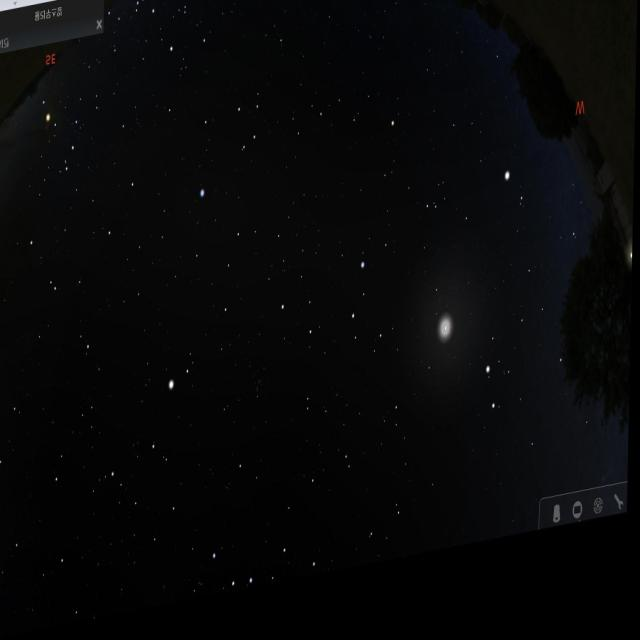bootes: (128, 358, 196, 566)
canis_minor: (503, 170, 532, 236)
gemini: (477, 302, 588, 448)
leo: (276, 240, 399, 396)
moon: (433, 317, 464, 378)
scorpius: (34, 78, 88, 182)
